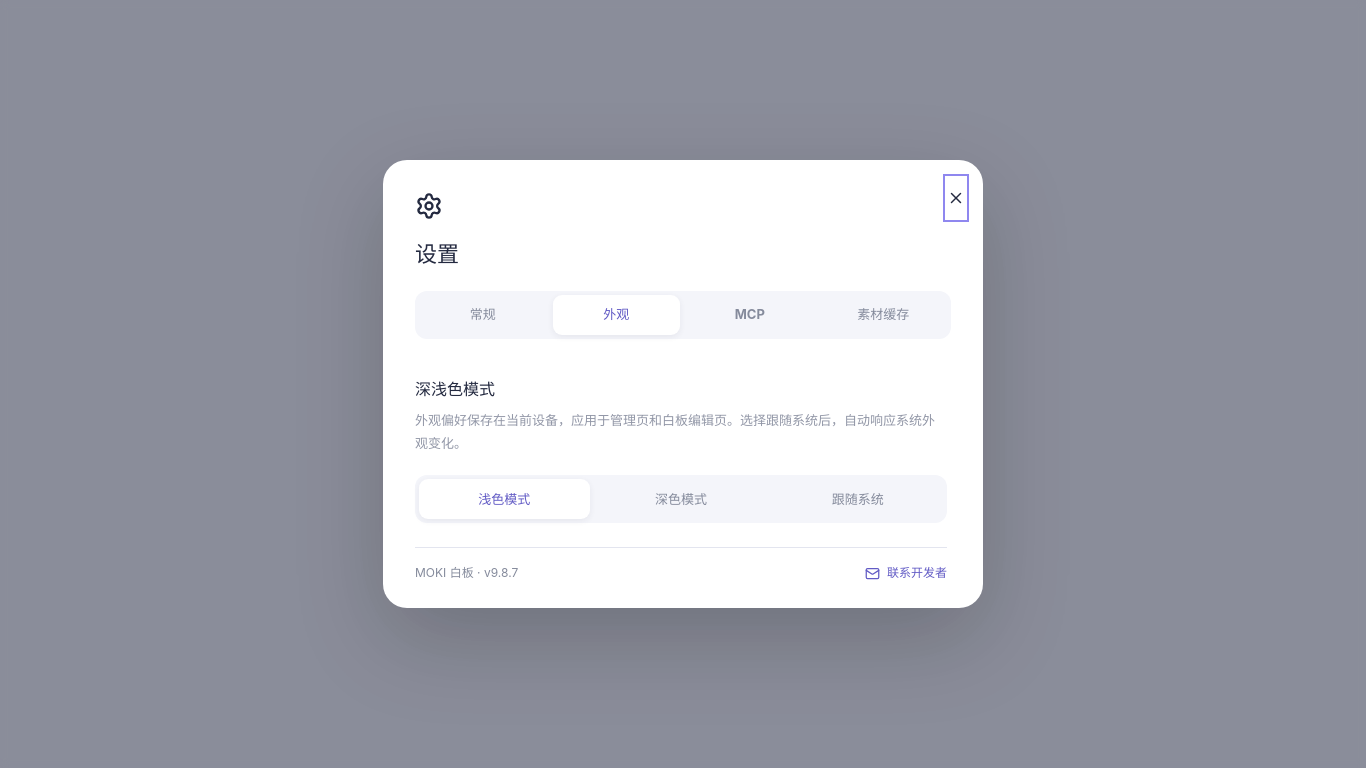
Test case: unified settings › shows desktop-only controls honestly in the web preview
Click the tab "常规": {"x": 483, "y": 315} [419,295,546,335]
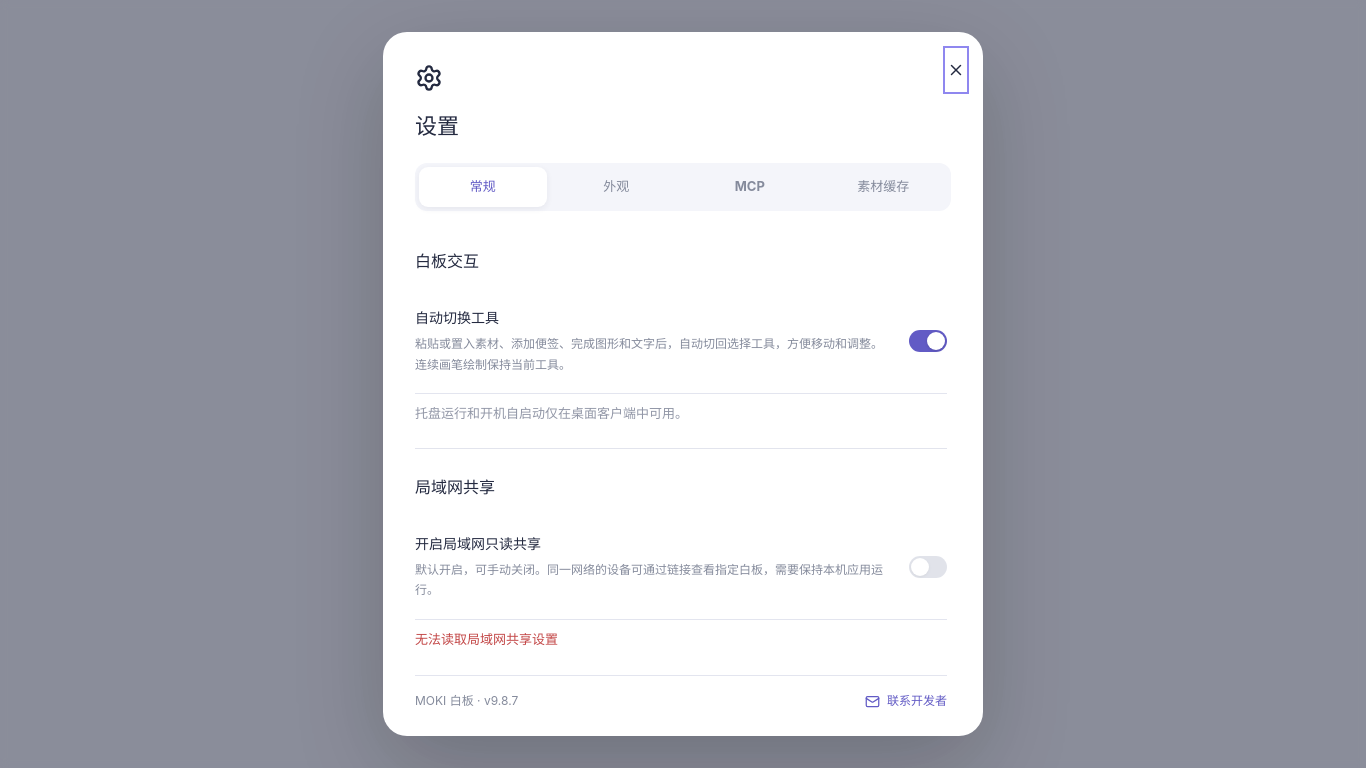
Expected: the text "托盘运行和开机自启动仅在桌面客户端中可用。" is shown, [415,405,688,421]
Expected: the switch named "局域网共享" is disabled, [909,556,947,578]
